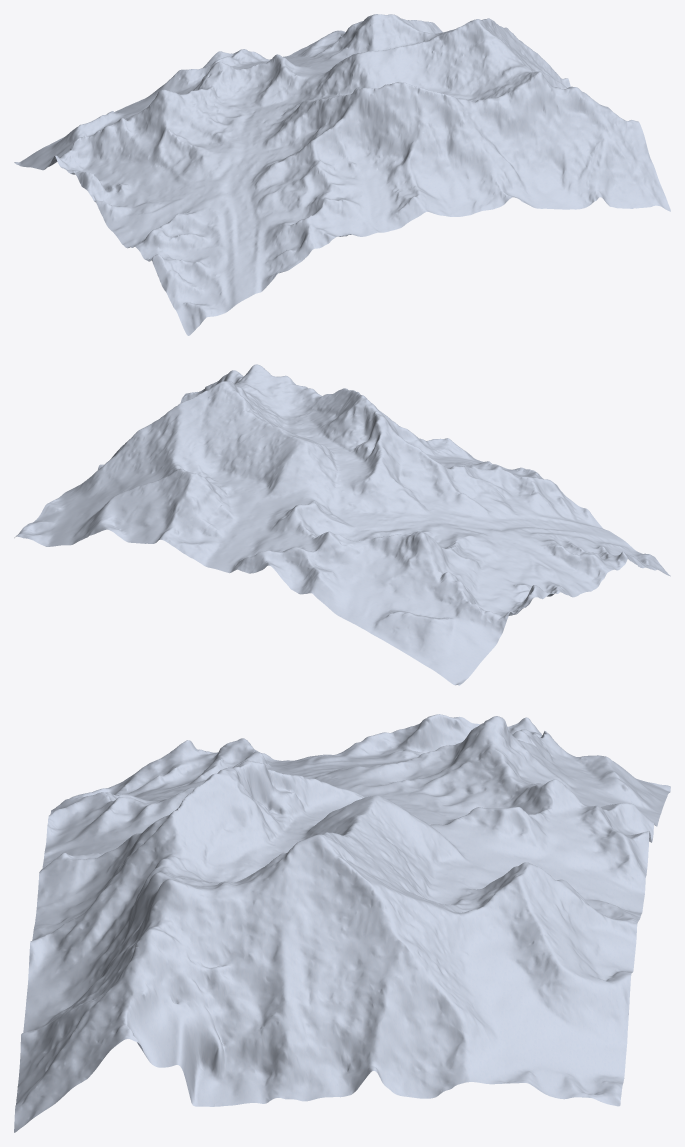
File: mountain-light.glb
3 views of the same model, one above another, from view 1: azimuth 30°, elevation 25°; view 2: azimuth 150°, elevation 25°; view 3: azimuth 270°, elevation 25° (orthographic). The views are drawn at different scales.
Parts seen in each view (by area): view 1: No sub; view 2: No sub; view 3: No sub.
Boxes of the visible parts, x1,y1,x2,y2 form: No sub: (14, 14, 670, 335); No sub: (14, 364, 670, 685); No sub: (14, 714, 670, 1132).
Size of the model in its own units: 22.6 by 7.36 by 16.9.
1 material, 1 textured.
